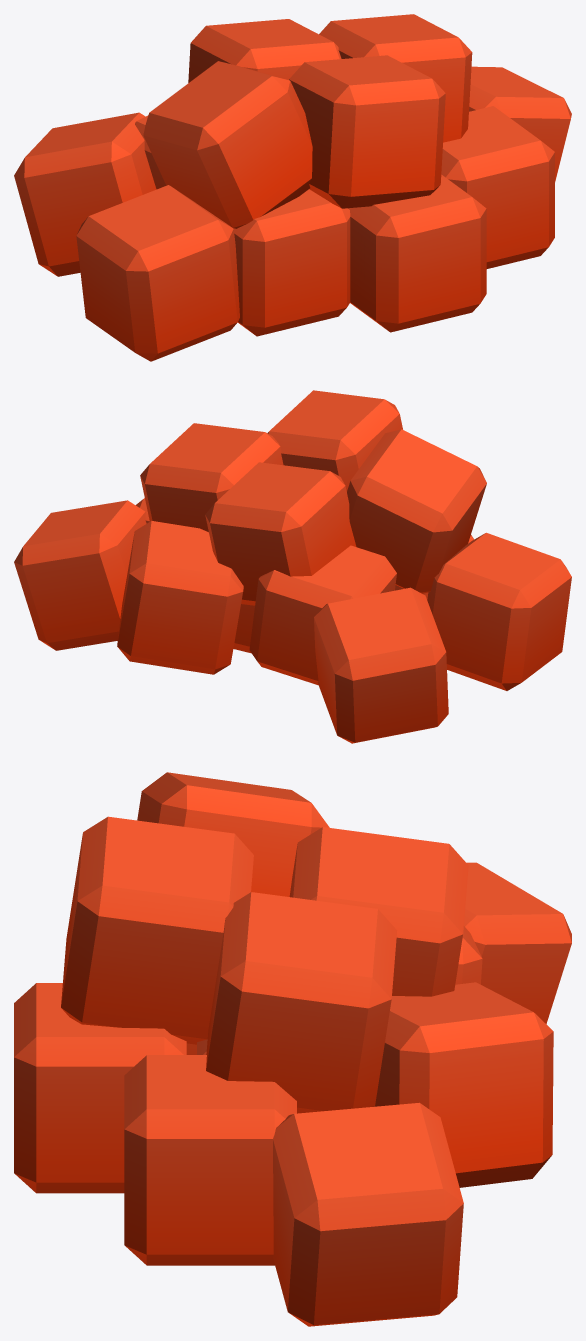
File: Beef_Meat_01_Sliced.fbx
The picture shows the model from 3 angles, top to bottom: view 1: azimuth 30°, elevation 25°; view 2: azimuth 150°, elevation 25°; view 3: azimuth 270°, elevation 25°; orthographic projection. The views are drawn at different scales.
Parts seen in each view (by area): view 1: Beef_Meat_01_Sliced; view 2: Beef_Meat_01_Sliced; view 3: Beef_Meat_01_Sliced.
Part boxes in pixels (box(x1,y1,x2,y2)): Beef_Meat_01_Sliced: box(14, 14, 571, 361); Beef_Meat_01_Sliced: box(14, 390, 571, 743); Beef_Meat_01_Sliced: box(14, 772, 571, 1326).
Size of the model in its own units: 36.43 by 16.8 by 25.06.
